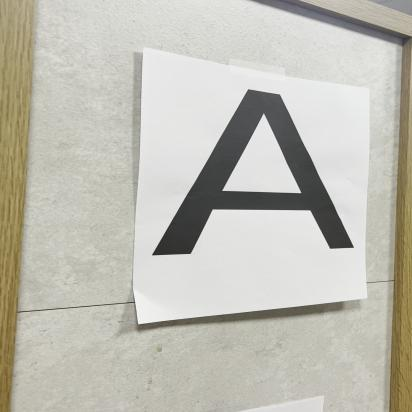seat: (148, 84, 366, 284)
